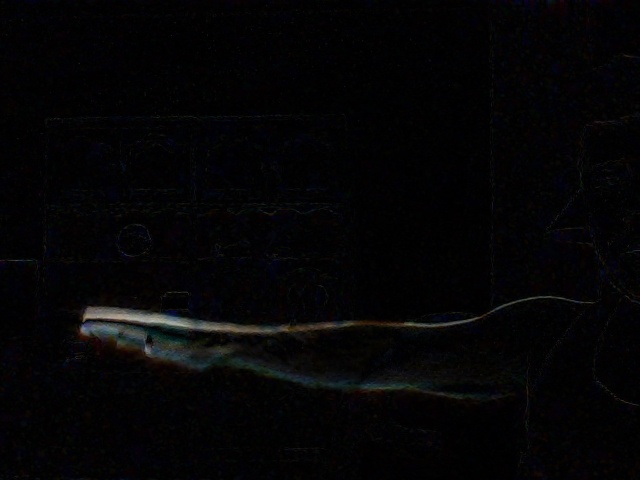hand_pa: (79, 295, 220, 378)
